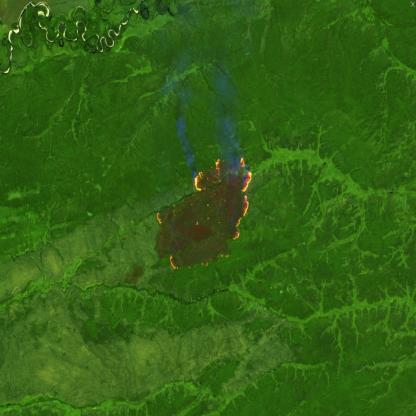fire: (193, 154, 254, 243), (166, 251, 182, 274), (154, 207, 166, 227)
